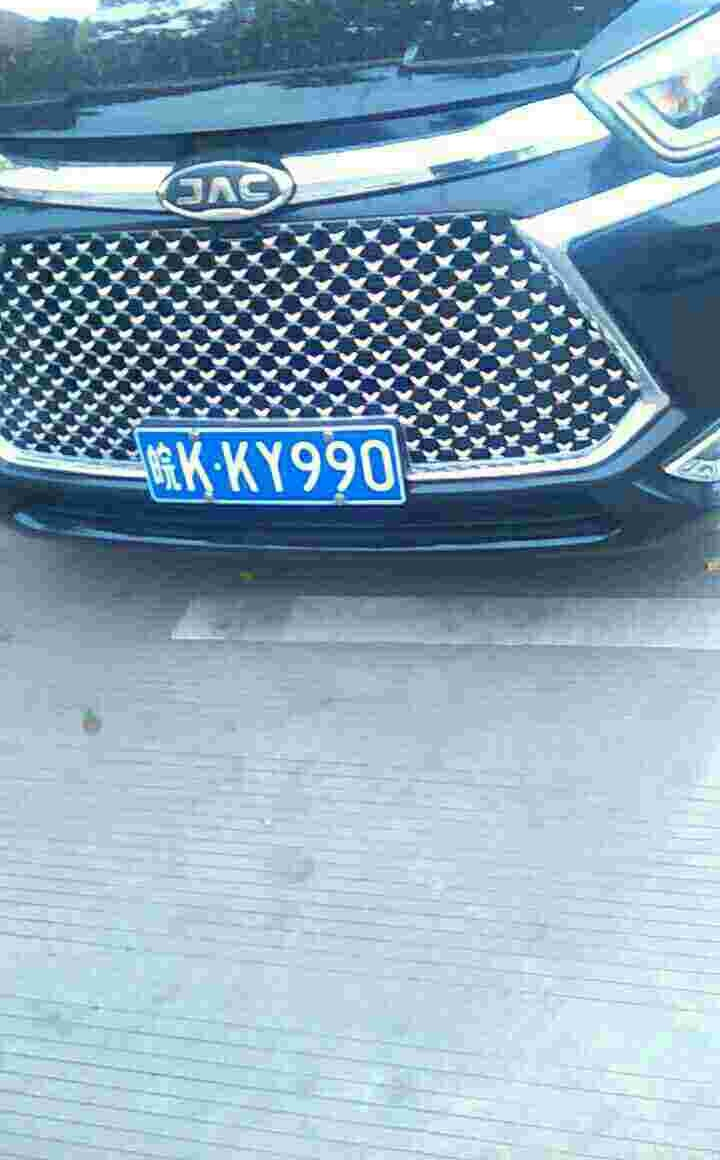license_plate: (145, 430, 417, 502)
